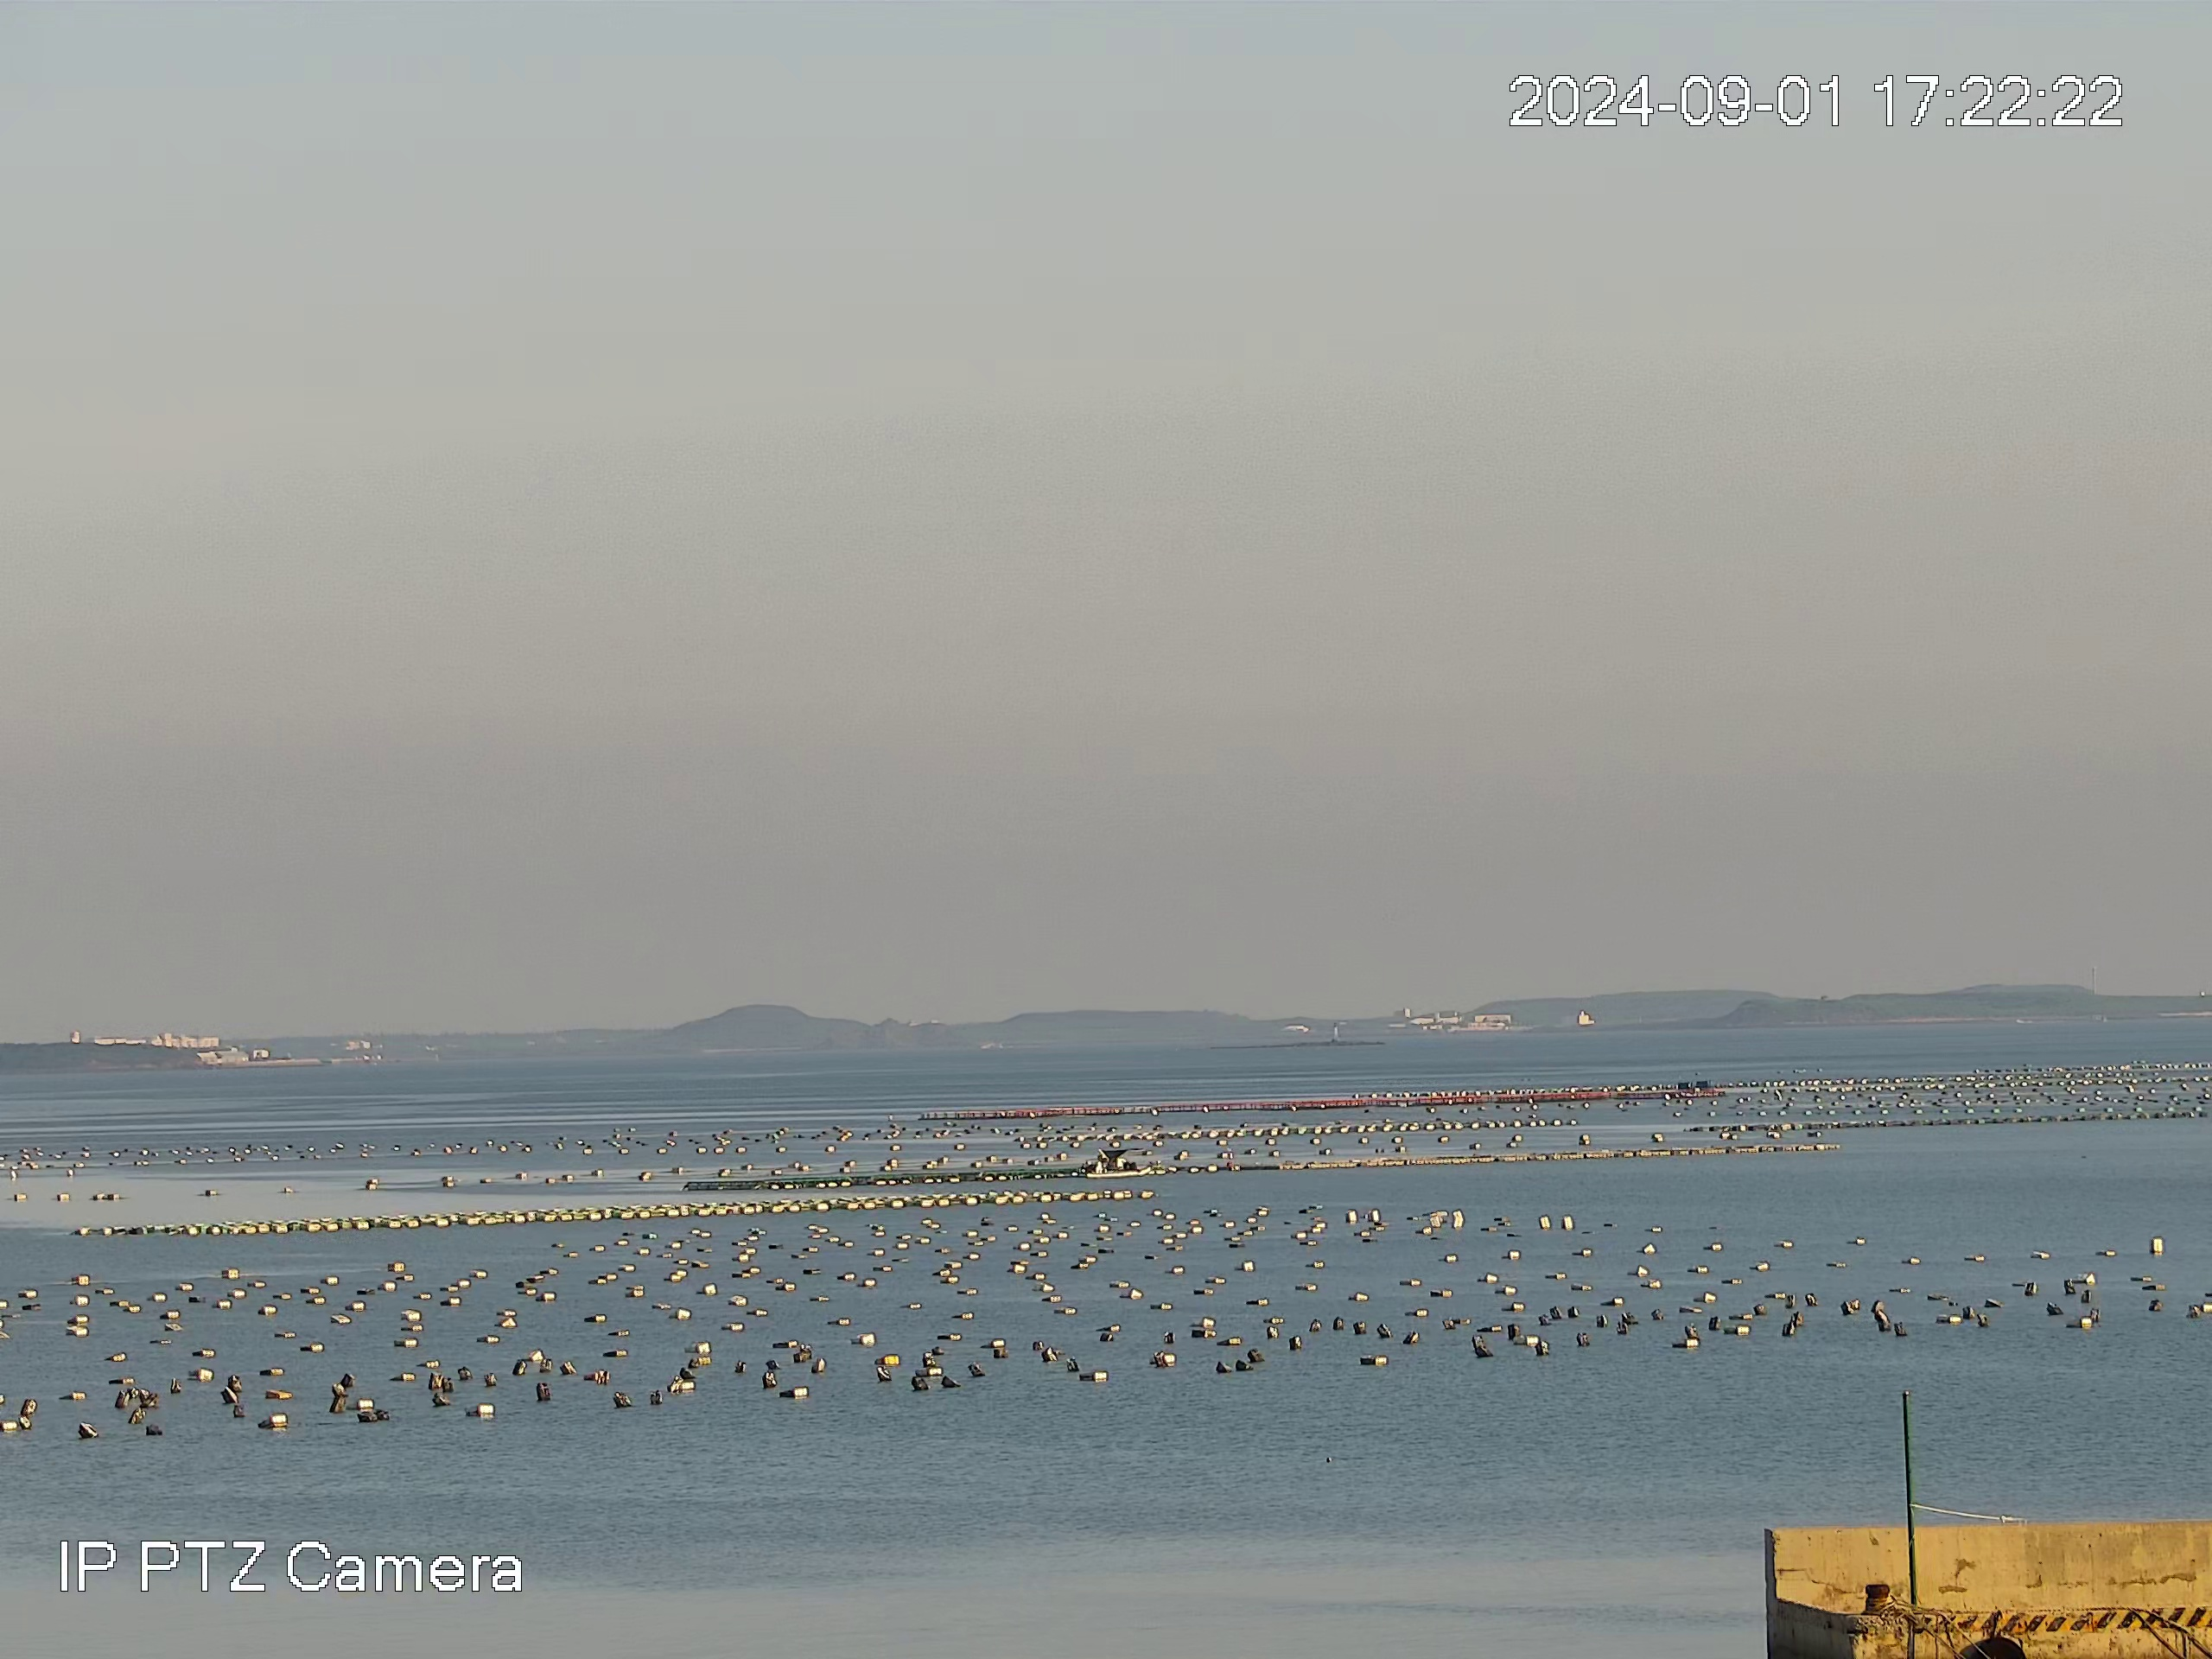boat: (1089, 1145, 1153, 1178)
